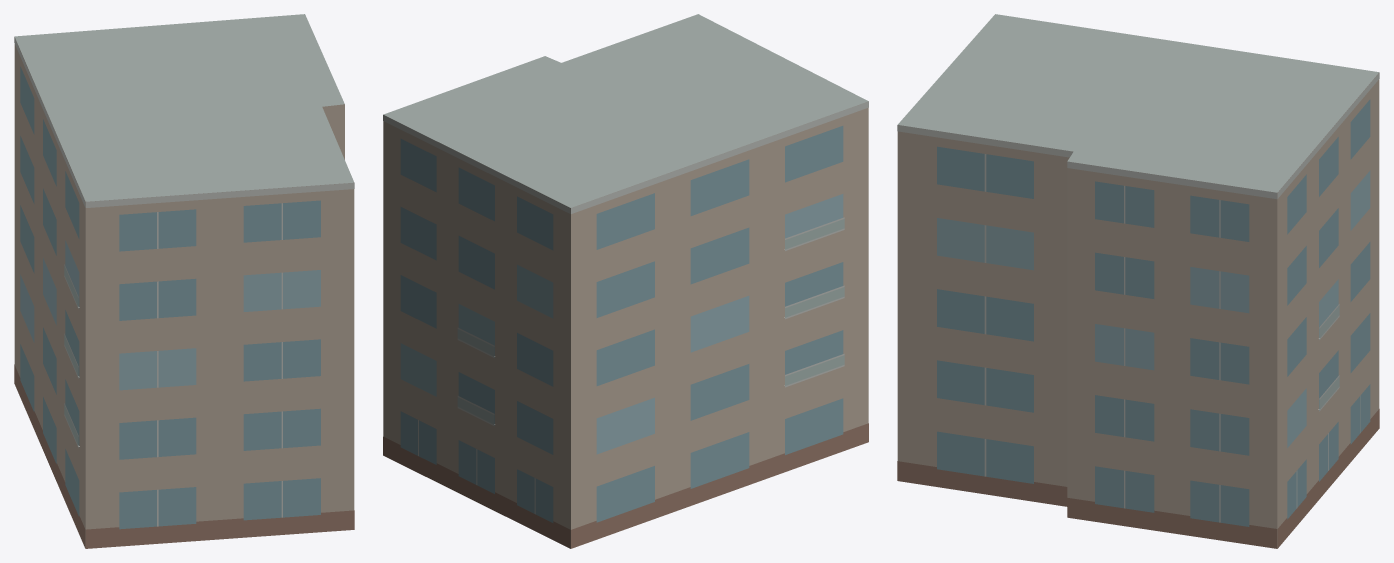
The model's file is survey-upis-32552556.glb.
3 views of the same model, side by side, from view 1: azimuth 30°, elevation 25°; view 2: azimuth 150°, elevation 25°; view 3: azimuth 270°, elevation 25° (orthographic). The views are drawn at different scales.
Visible parts, largest first — view 1: survey-upis-32552556.tmp; view 2: survey-upis-32552556.tmp; view 3: survey-upis-32552556.tmp.
Boxes of the visible parts, left/top/right/bottom form: survey-upis-32552556.tmp: left=14, top=14, right=354, bottom=548; survey-upis-32552556.tmp: left=383, top=14, right=868, bottom=548; survey-upis-32552556.tmp: left=897, top=14, right=1379, bottom=548.
Size of the model in its own units: 14.3 by 13.28 by 16.3.
